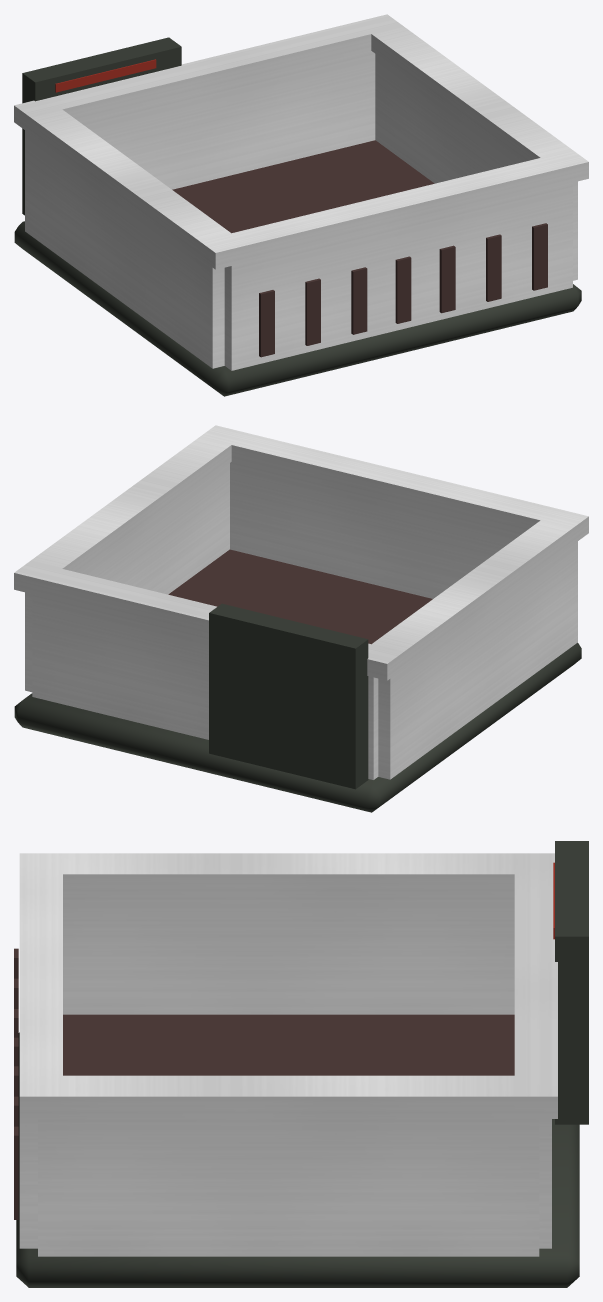
The model's file is security_crate_open.obj.
The picture shows the model from 3 angles, top to bottom: view 1: azimuth 30°, elevation 25°; view 2: azimuth 150°, elevation 25°; view 3: azimuth 270°, elevation 25°; orthographic projection. The views are drawn at different scales.
Visible parts, largest first — view 1: source_component_004, source_component_005, source_component_002, source_component_000, source_component_008, source_component_001, source_component_009, source_component_003, source_component_006, source_component_007, source_component_010, source_component_014 (+7 smaller); view 2: source_component_010, source_component_004, source_component_002, source_component_005, source_component_000, source_component_001, source_component_008, source_component_003, source_component_006, source_component_007, source_component_009; view 3: source_component_003, source_component_002, source_component_001, source_component_000, source_component_006, source_component_007, source_component_008, source_component_009, source_component_010, source_component_004, source_component_005.
Part boxes in pixels (x1,y1,x2,y2): source_component_004: [224, 182, 572, 370]; source_component_005: [76, 47, 375, 189]; source_component_002: [25, 130, 224, 368]; source_component_000: [14, 221, 581, 396]; source_component_008: [199, 150, 588, 269]; source_component_001: [172, 140, 434, 233]; source_component_009: [14, 14, 403, 133]; source_component_003: [375, 54, 577, 280]; source_component_006: [30, 109, 230, 257]; source_component_007: [371, 26, 571, 161]; source_component_010: [22, 37, 181, 215]; source_component_014: [351, 267, 367, 334]; source_component_010: [209, 603, 368, 789]; source_component_004: [230, 462, 522, 598]; source_component_002: [378, 541, 577, 779]; source_component_005: [32, 594, 378, 779]; source_component_000: [14, 642, 581, 812]; source_component_001: [168, 549, 432, 644]; source_component_008: [199, 425, 588, 544]; source_component_003: [25, 463, 229, 692]; source_component_006: [372, 520, 572, 668]; source_component_007: [30, 437, 231, 572]; source_component_009: [14, 561, 403, 680]; source_component_003: [38, 1119, 539, 1256]; source_component_002: [63, 896, 514, 1014]; source_component_001: [63, 1014, 514, 1075]; source_component_000: [16, 1032, 579, 1287]; source_component_006: [63, 853, 514, 896]; source_component_007: [63, 1075, 514, 1118]; source_component_008: [19, 853, 62, 1118]; source_component_009: [514, 853, 557, 1118]; source_component_010: [555, 841, 588, 1124]; source_component_004: [19, 1119, 37, 1248]; source_component_005: [539, 1119, 551, 1248].
Bounding box in the file's own units: 1.86 × 0.8 × 1.86.
